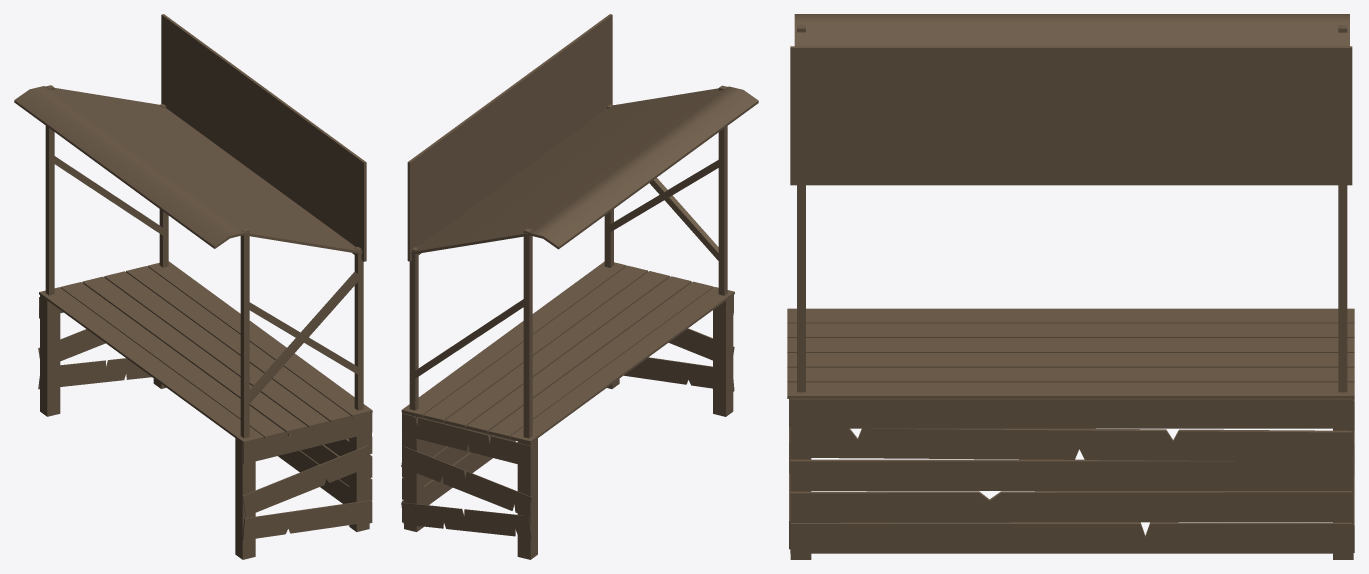
Rendered from Shop.fbx.
The picture shows the model from 3 angles, left to right: view 1: azimuth 30°, elevation 25°; view 2: azimuth 150°, elevation 25°; view 3: azimuth 270°, elevation 25°; orthographic projection. The views are drawn at different scales.
Visible parts, largest first — view 1: Shop; view 2: Shop; view 3: Shop.
Part boxes in pixels (x1,y1,x2,y2): Shop: [14, 14, 372, 559]; Shop: [401, 14, 758, 559]; Shop: [787, 14, 1354, 559].
Size of the model in its own units: 5.1 by 11.48 by 11.58.
